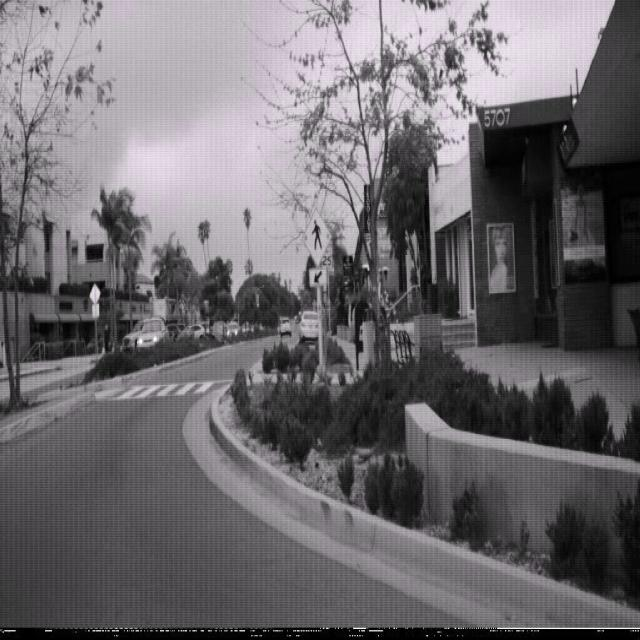pedestrianCrossing: (302, 204, 332, 268)
